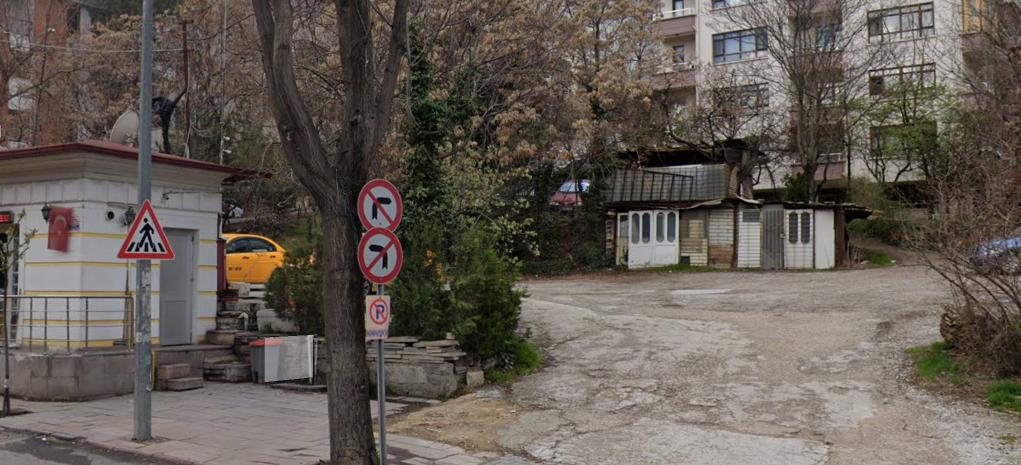leftturnsareforbidden: (358, 233, 402, 282)
rightturnsareforbidden: (358, 182, 399, 227)
